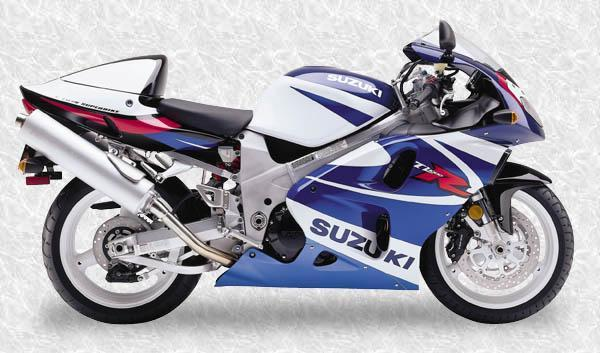motorcycle: (3, 13, 600, 339)
